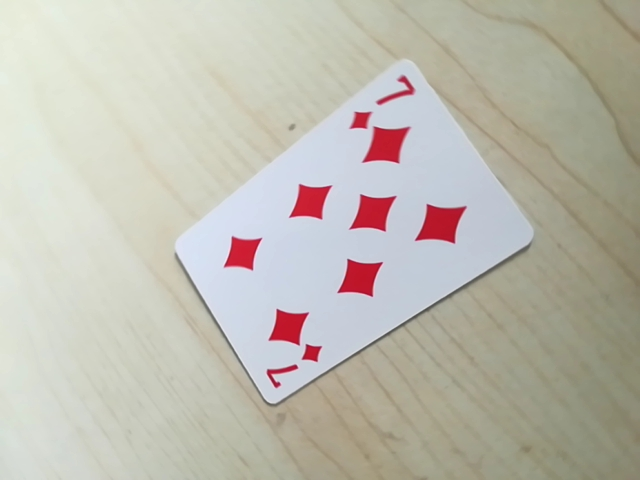fk 7: (344, 73, 419, 137), (257, 347, 331, 395)
